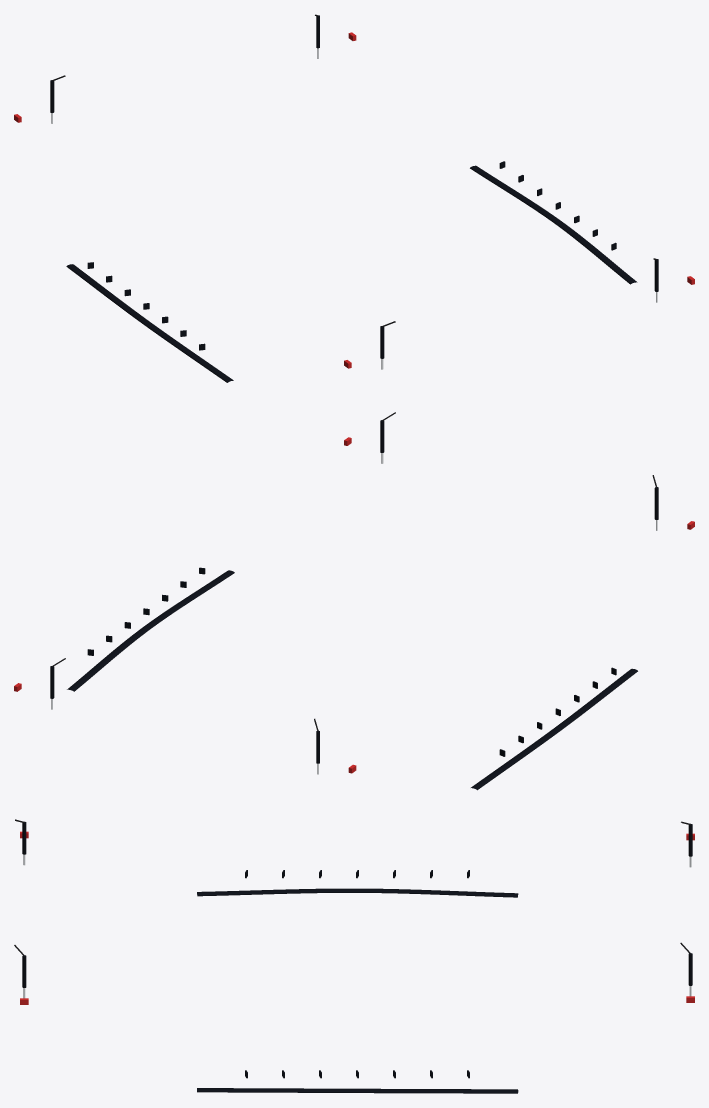
The model's file is telemetry_sensors.glb.
3 views of the same model, one above another, from view 1: azimuth 30°, elevation 25°; view 2: azimuth 150°, elevation 25°; view 3: azimuth 270°, elevation 25° (orthographic).
Parts seen in each view (by area): view 1: Telemetry_Sensors_Aero_Curls_Assembly; view 2: Telemetry_Sensors_Aero_Curls_Assembly; view 3: Telemetry_Sensors_Aero_Curls_Assembly.
Boxes of the visible parts, left/top/right/bottom form: Telemetry_Sensors_Aero_Curls_Assembly: left=14, top=14, right=694, bottom=382; Telemetry_Sensors_Aero_Curls_Assembly: left=14, top=412, right=694, bottom=790; Telemetry_Sensors_Aero_Curls_Assembly: left=14, top=819, right=694, bottom=1093.
Bounding box in the file's own units: 1.96 × 0.504 × 2.76.
